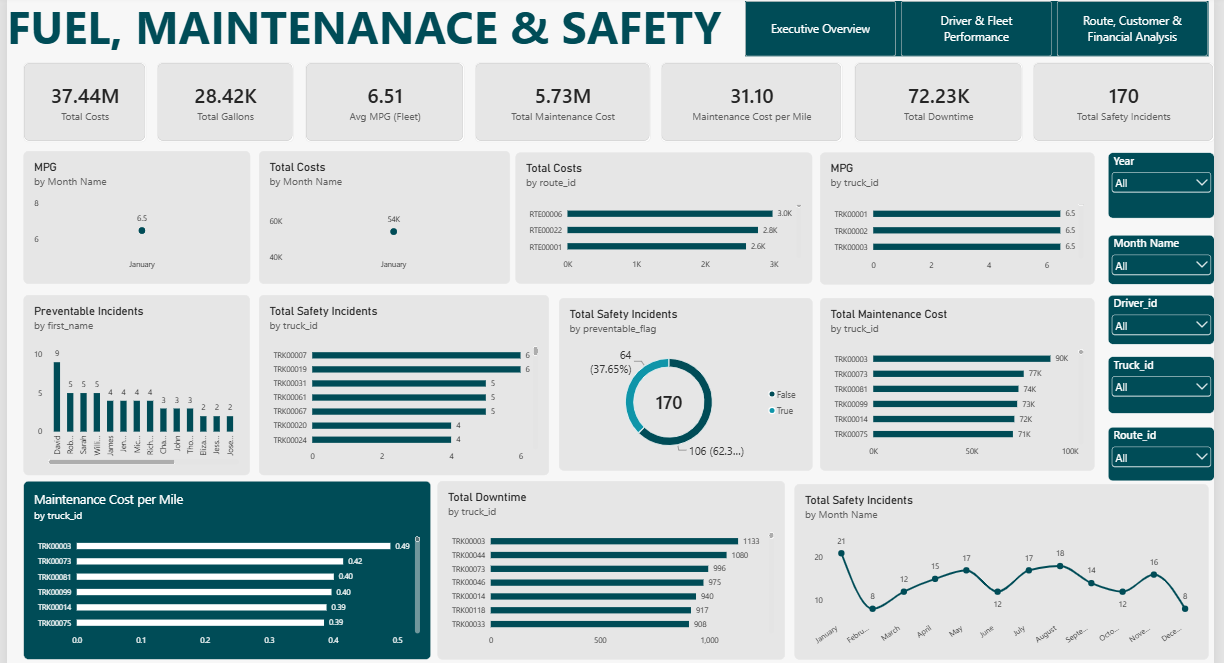

What the dashboard file says about the page in this screenshot:
{"tool":"powerbi","page":{"name":"Fuel & Safety","canvas":[1920,1080],"ordinal":3},"visuals":[{"type":"lineChart","fields":{"Category":["DateTable.Month Name"],"Y":["Trips.MPG"]},"box":[25.3,248.7,360.4,211.5],"z":0},{"type":"lineChart","fields":{"Category":["DateTable.Month Name"],"Y":["Fuel purchases.Total Costs"]},"box":[401.7,248.7,399,211.5],"z":1000},{"type":"lineChart","fields":{"Category":["DateTable.Month Name"],"Y":["Safety incident.Total Incidents"]},"box":[1252.6,777.8,658.5,279.2],"z":2000},{"type":"columnChart","fields":{"Category":["Drivers.first_name"],"Y":["Safety incident.Preventable Incidents"]},"box":[25.4,476.3,359.8,286.7],"z":3000},{"type":"barChart","fields":{"Category":["Trucks.truck_id"],"Y":["Safety incident.Total Incidents"]},"box":[401.6,476.3,461.3,286.7],"z":4000},{"type":"cardVisual","fields":{"Data":["Fuel purchases.Total Costs"]},"box":[26.2,107.4,195.6,126.5],"z":5000},{"type":"cardVisual","fields":{"Data":["Trips.Total Gallons"]},"box":[239.4,107.4,217.1,126.5],"z":6000},{"type":"cardVisual","fields":{"Data":["Truck utilization metrics.Avg MPG (Fleet)"]},"box":[474,107.4,252.9,126.5],"z":7000},{"type":"cardVisual","fields":{"Data":["Maintenance record.Total Maintenance Cost"]},"box":[744.4,107.4,279.2,126.5],"z":8000},{"type":"cardVisual","fields":{"Data":["Maintenance record.Total Downtime"]},"box":[1347.2,107.4,267.2,126.5],"z":9000},{"type":"cardVisual","fields":{"Data":["Maintenance record.Maintenance Cost per Mile"]},"box":[1041.1,107.4,288.7,126.5],"z":10000},{"type":"cardVisual","fields":{"Data":["Safety incident.Total Safety Incidents"]},"box":[1631.3,107.4,288.7,126.5],"z":11000},{"type":"barChart","fields":{"Category":["Loads.route_id"],"Y":["Fuel purchases.Total Costs"]},"box":[810,251.4,472.2,208.8],"z":12000},{"type":"barChart","fields":{"Category":["Trucks.truck_id"],"Y":["Trips.MPG"]},"box":[1293.2,250.5,436.6,210],"z":13000},{"type":"barChart","fields":{"Category":["Trucks.truck_id"],"Y":["Maintenance record.Total Maintenance Cost"]},"box":[1293.2,482,436.6,274.4],"z":14000},{"type":"barChart","fields":{"Category":["Trucks.truck_id"],"Y":["Maintenance record.Maintenance Cost per Mile"]},"box":[25.4,773.4,648,283.7],"z":15000},{"type":"barChart","fields":{"Category":["Trucks.truck_id"],"Y":["Maintenance record.Total Downtime"]},"box":[683.8,773.4,552.4,283.7],"z":16000},{"type":"donutChart","fields":{"Category":["Safety incident.preventable_flag"],"Y":["Safety incident.Total Safety Incidents"]},"box":[878,482,403.2,274.4],"z":17000},{"type":"slicer","fields":{"Values":["DateTable.Month Name"]},"box":[1751.3,381.7,169.4,78.7],"z":18000},{"type":"slicer","fields":{"Values":["Route.route_id"]},"box":[1751.3,687.1,169.4,85.9],"z":19000},{"type":"slicer","fields":{"Values":["Trucks.truck_id"]},"box":[1751.3,575,169.4,90.7],"z":20000},{"type":"slicer","fields":{"Values":["Drivers.driver_id"]},"box":[1751.3,477.2,169.4,78.7],"z":21000},{"type":"slicer","fields":{"Values":["DateTable.Year","DateTable.Year"]},"box":[1751.3,250.5,169.4,105],"z":22000},{"type":"textbox","box":[0,0,1729.8,97.8],"z":23000},{"type":"pageNavigator","box":[1173.9,9.5,737.2,88.3],"z":24000}]}

Visuals, with their boxes on the page's 1920x1080 design canvas (x1, y1, x2, y2). These are canvas units, not pixel positions in the 1224x663 screenshot, which may show the page scaled, cropped or inside an application window:
lineChart - DateTable.Month Name x Trips.MPG: l=25, t=249, r=386, b=460
lineChart - DateTable.Month Name x Fuel purchases.Total Costs: l=402, t=249, r=801, b=460
lineChart - DateTable.Month Name x Safety incident.Total Incidents: l=1253, t=778, r=1911, b=1057
columnChart - Drivers.first_name x Safety incident.Preventable Incidents: l=25, t=476, r=385, b=763
barChart - Trucks.truck_id x Safety incident.Total Incidents: l=402, t=476, r=863, b=763
cardVisual - Fuel purchases.Total Costs: l=26, t=107, r=222, b=234
cardVisual - Trips.Total Gallons: l=239, t=107, r=456, b=234
cardVisual - Truck utilization metrics.Avg MPG (Fleet): l=474, t=107, r=727, b=234
cardVisual - Maintenance record.Total Maintenance Cost: l=744, t=107, r=1024, b=234
cardVisual - Maintenance record.Total Downtime: l=1347, t=107, r=1614, b=234
cardVisual - Maintenance record.Maintenance Cost per Mile: l=1041, t=107, r=1330, b=234
cardVisual - Safety incident.Total Safety Incidents: l=1631, t=107, r=1920, b=234
barChart - Loads.route_id x Fuel purchases.Total Costs: l=810, t=251, r=1282, b=460
barChart - Trucks.truck_id x Trips.MPG: l=1293, t=250, r=1730, b=460
barChart - Trucks.truck_id x Maintenance record.Total Maintenance Cost: l=1293, t=482, r=1730, b=756
barChart - Trucks.truck_id x Maintenance record.Maintenance Cost per Mile: l=25, t=773, r=673, b=1057
barChart - Trucks.truck_id x Maintenance record.Total Downtime: l=684, t=773, r=1236, b=1057
donutChart - Safety incident.preventable_flag x Safety incident.Total Safety Incidents: l=878, t=482, r=1281, b=756
slicer - DateTable.Month Name: l=1751, t=382, r=1921, b=460
slicer - Route.route_id: l=1751, t=687, r=1921, b=773
slicer - Trucks.truck_id: l=1751, t=575, r=1921, b=666
slicer - Drivers.driver_id: l=1751, t=477, r=1921, b=556
slicer - DateTable.Year x DateTable.Year: l=1751, t=250, r=1921, b=356
textbox: l=0, t=0, r=1730, b=98
pageNavigator: l=1174, t=10, r=1911, b=98
